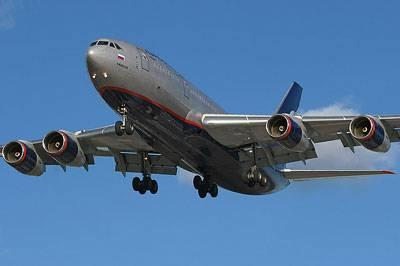airplane: (1, 39, 400, 203)
